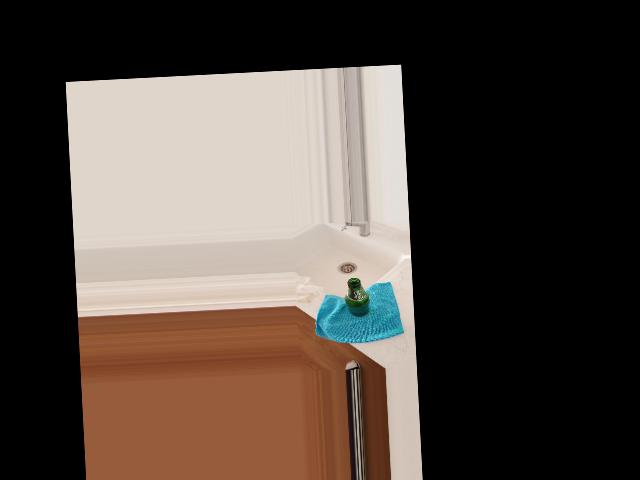beer: (343, 277, 369, 318)
